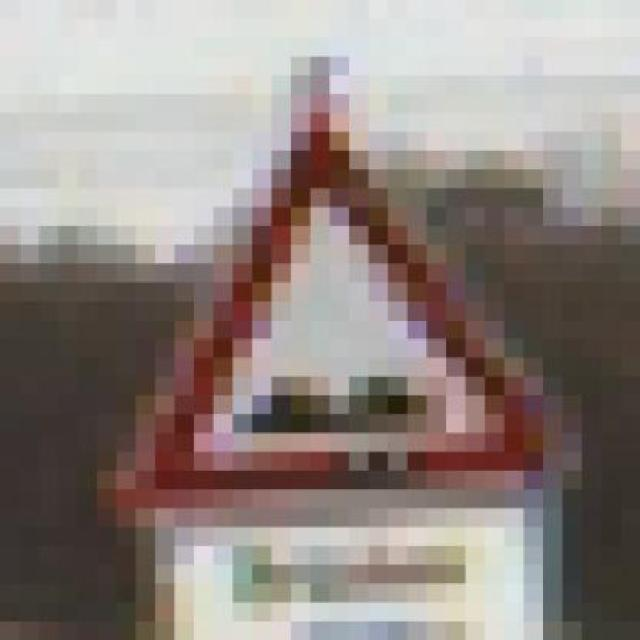Uneven Road: (97, 56, 601, 509)
